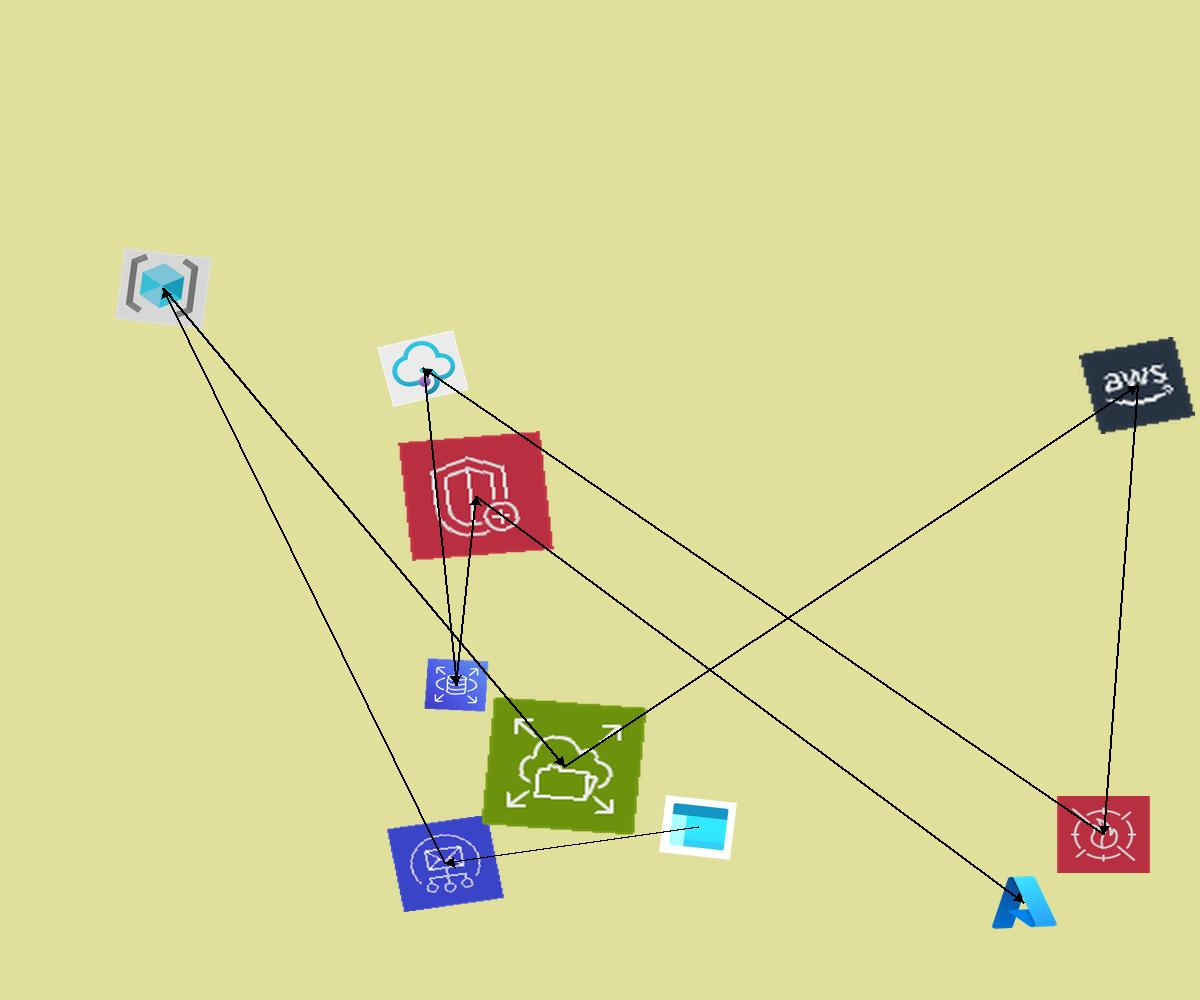AWS-Cloud-logo: (1079, 337, 1195, 434)
AWS-EFS: (480, 696, 648, 836)
AWS-RDS: (424, 658, 489, 712)
AWS-Shield: (398, 431, 554, 561)
AWS-Simple-Email-Service: (386, 814, 505, 913)
AWS-WAF: (1056, 795, 1151, 874)
Azure_api_gateway: (377, 330, 469, 407)
Azure_management-portal: (659, 795, 737, 860)
Azure_resource_group: (115, 248, 212, 329)
Azure_services: (986, 871, 1060, 933)
